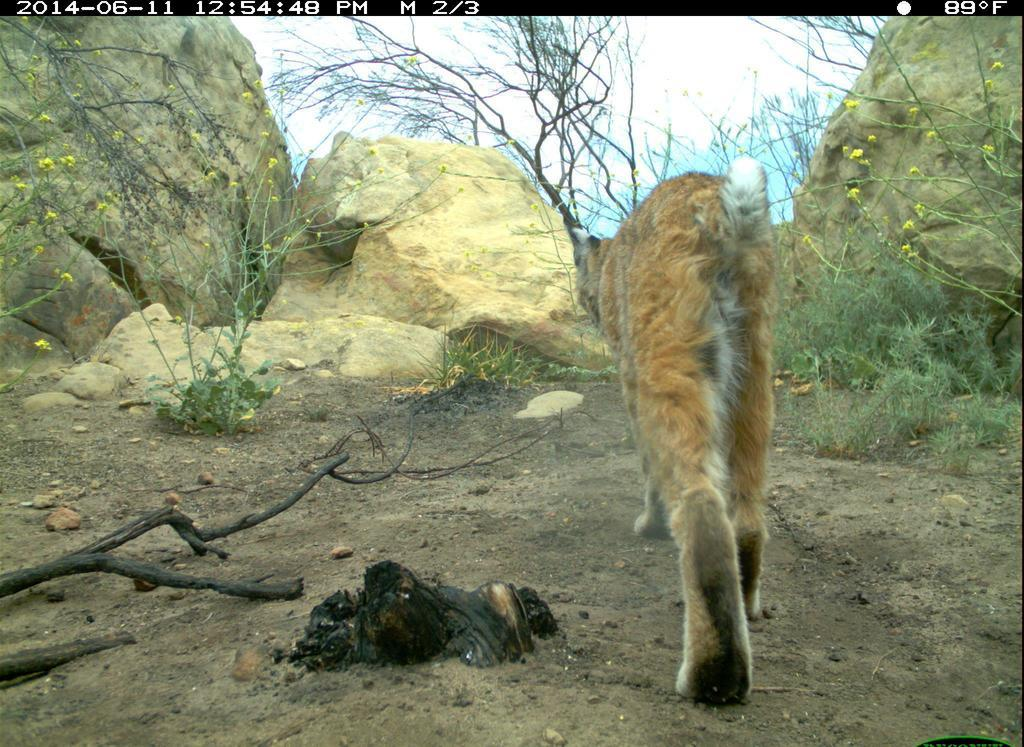bobcat: (574, 158, 826, 711)
